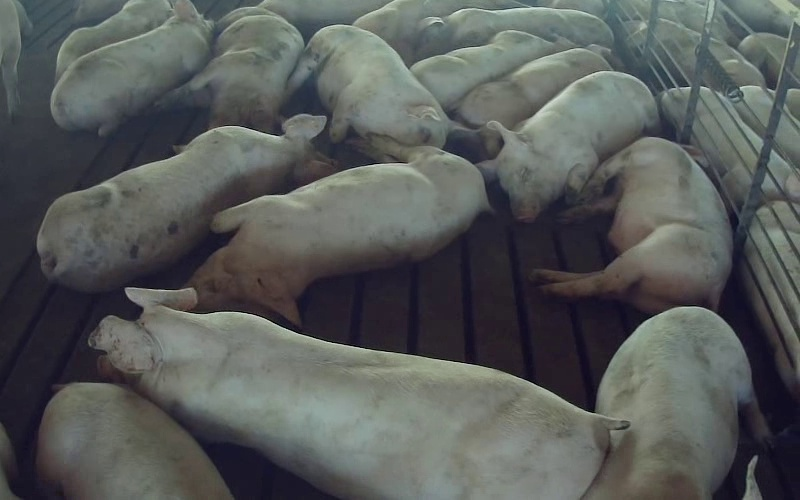pig: (89, 289, 626, 499), (189, 136, 490, 325), (583, 307, 769, 499), (533, 137, 731, 312), (479, 72, 659, 221), (37, 383, 232, 499), (288, 25, 448, 147), (157, 7, 303, 132), (455, 45, 611, 128), (411, 30, 572, 109), (415, 7, 613, 59)
